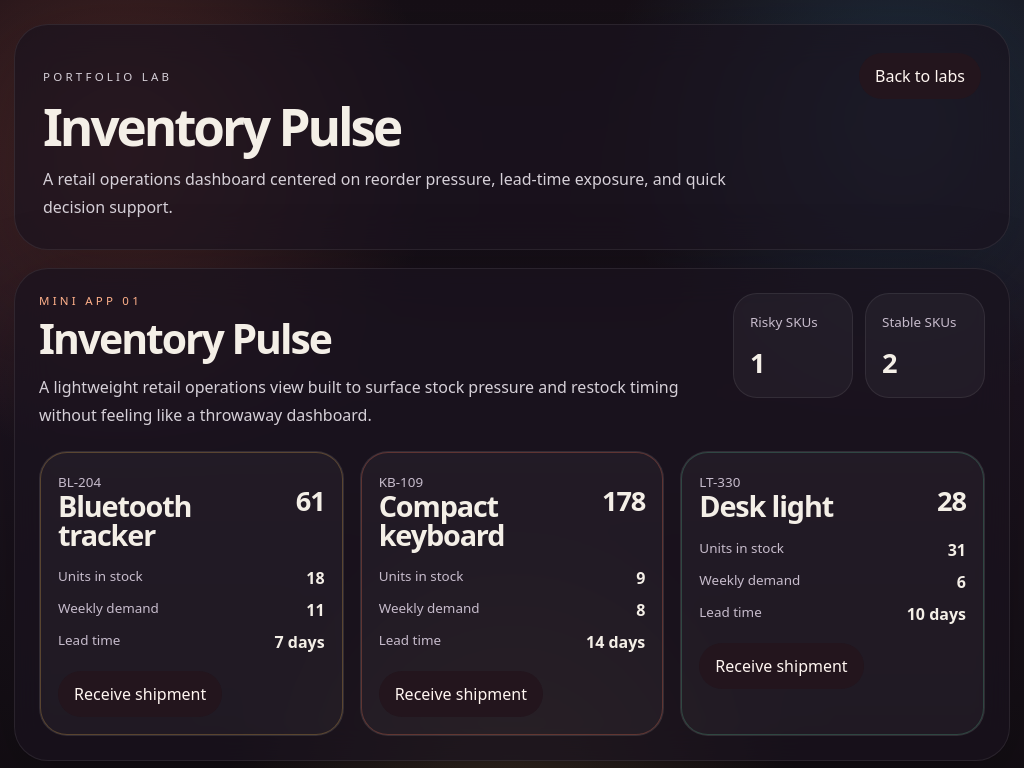
Scenario: Portfolio Labs app › updates inventory counts after receiving a shipment
This screenshot has width=1024, height=768.
Expected: the text "18" is shown, [306, 567, 325, 589]
What coordinates should you click on to do the following:
click the button "Receive shipment" below "11"
I would click on:
 (140, 694)
Its box is [58, 671, 222, 717].
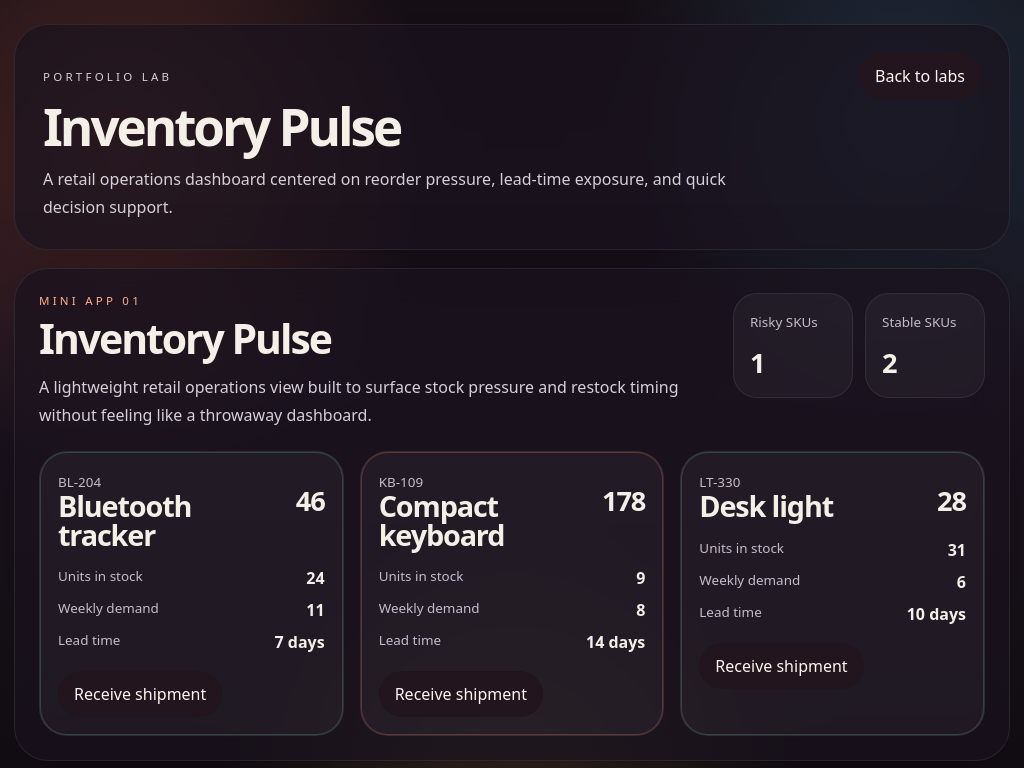
Result: the text "24" is shown at [306, 567, 325, 589]
